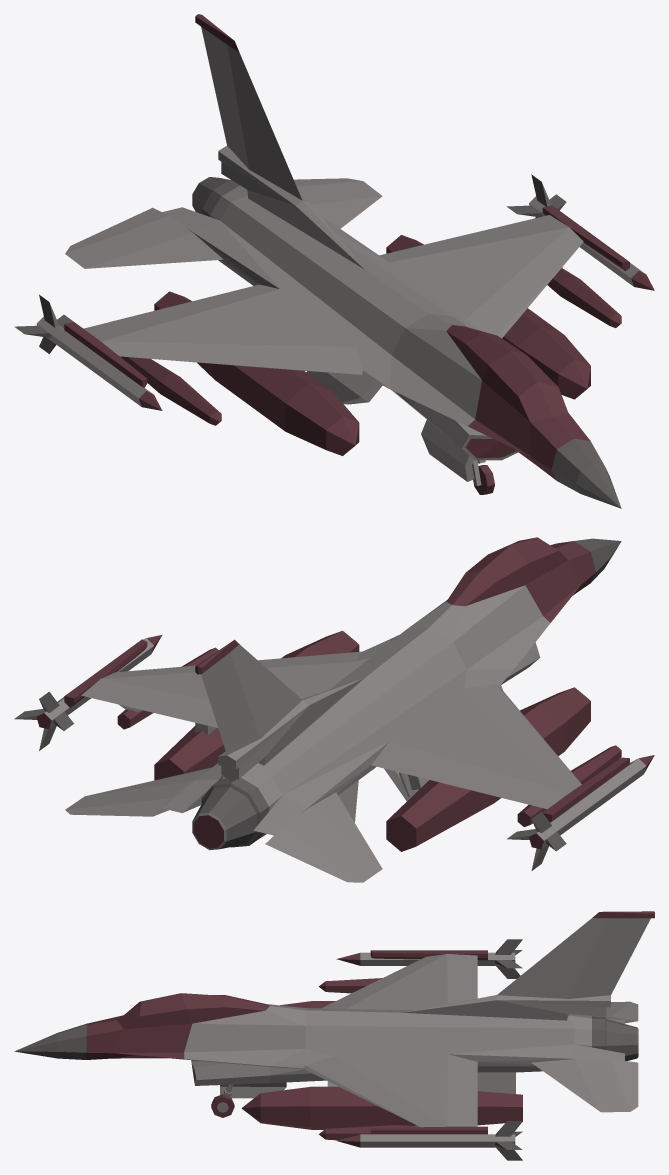
Rendered from military-jet-a-military.glb.
The picture shows the model from 3 angles, top to bottom: view 1: azimuth 30°, elevation 25°; view 2: azimuth 150°, elevation 25°; view 3: azimuth 270°, elevation 25°; orthographic projection. The views are drawn at different scales.
Parts seen in each view (by area): view 1: SM_Jet_A_Military_Base; view 2: SM_Jet_A_Military_Base; view 3: SM_Jet_A_Military_Base, SM_Jet_A_Military_Wheel_F.
Part boxes in pixels (bbox=[...]): SM_Jet_A_Military_Base: bbox=[14, 14, 654, 508]; SM_Jet_A_Military_Base: bbox=[14, 537, 654, 882]; SM_Jet_A_Military_Base: bbox=[14, 911, 654, 1160]; SM_Jet_A_Military_Wheel_F: bbox=[211, 1094, 234, 1117].
Size of the model in its own units: 10.94 by 5.23 by 14.8.
